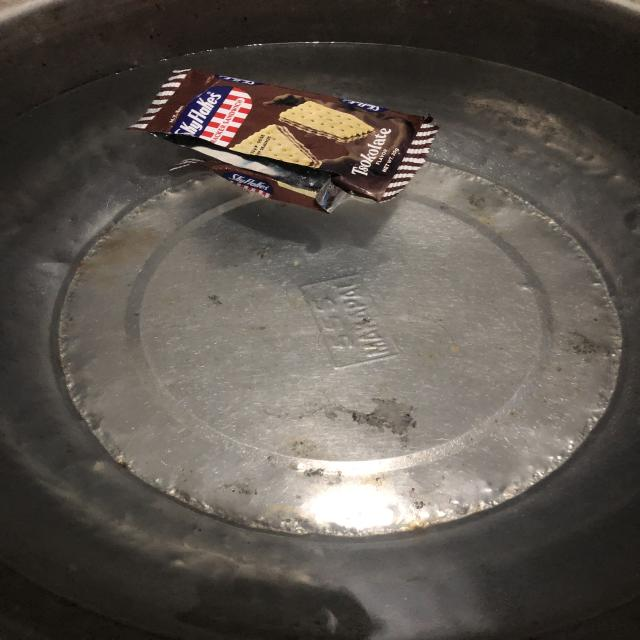Plastic Wrapper: (128, 68, 439, 214)
